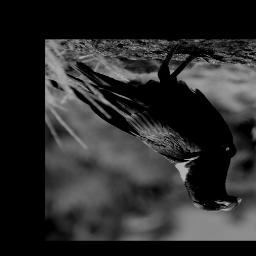Crow: (66, 41, 247, 215)
